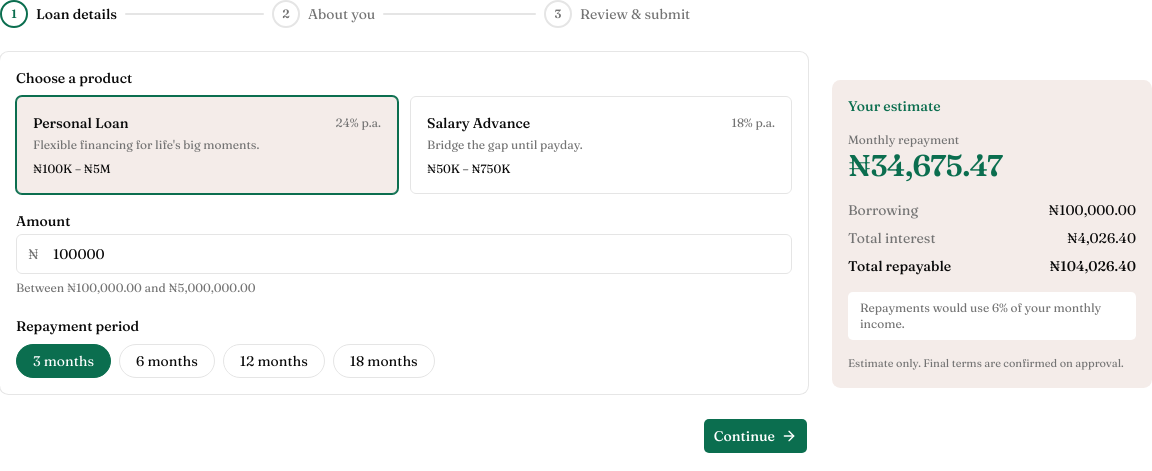
Test: ApplicationForm › blocks progress when the amount is outside the product range
Replace the text in the number field labelled "Amount" with "50" at [404, 254], box [16, 234, 792, 274]
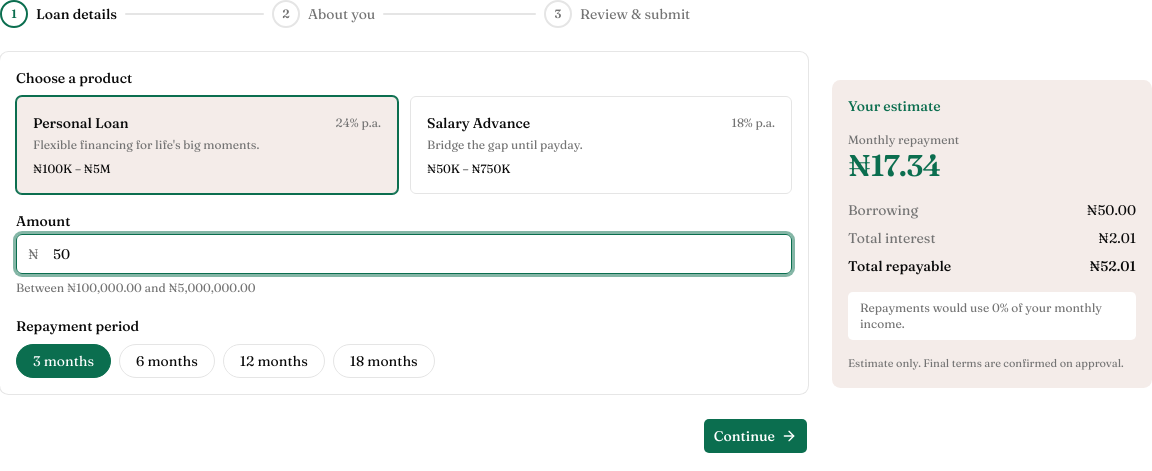
Click the button "Continue" at [755, 436], box [703, 418, 808, 454]
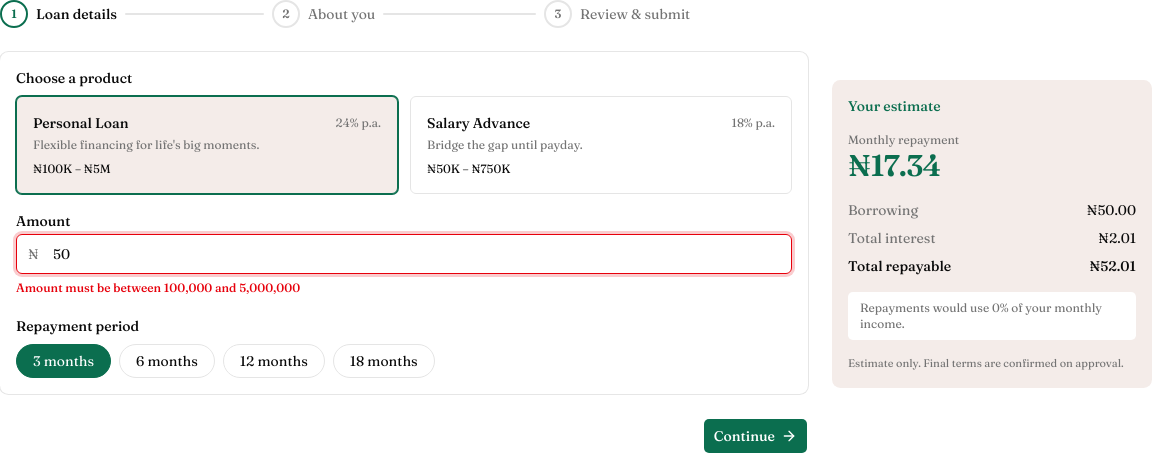
Expected: the text "Amount must be between 100,000 and 5,000,000" is shown, [16, 280, 300, 295]
